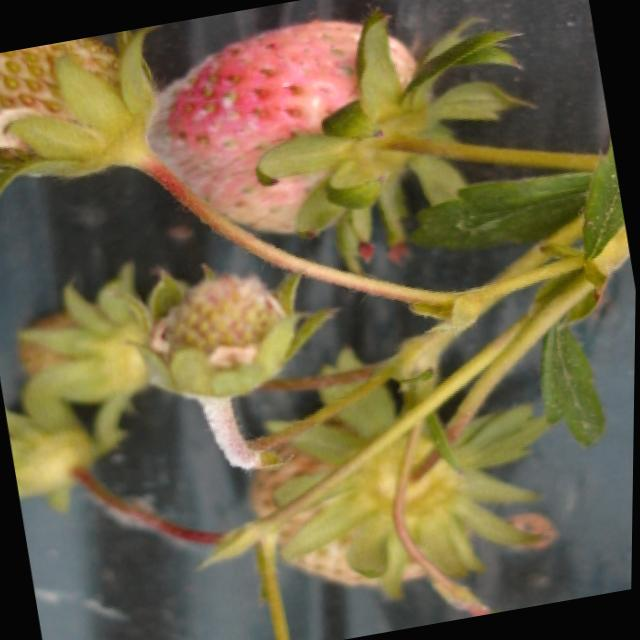Powdery Mildew Fruit: (143, 19, 435, 232), (127, 271, 297, 400)
